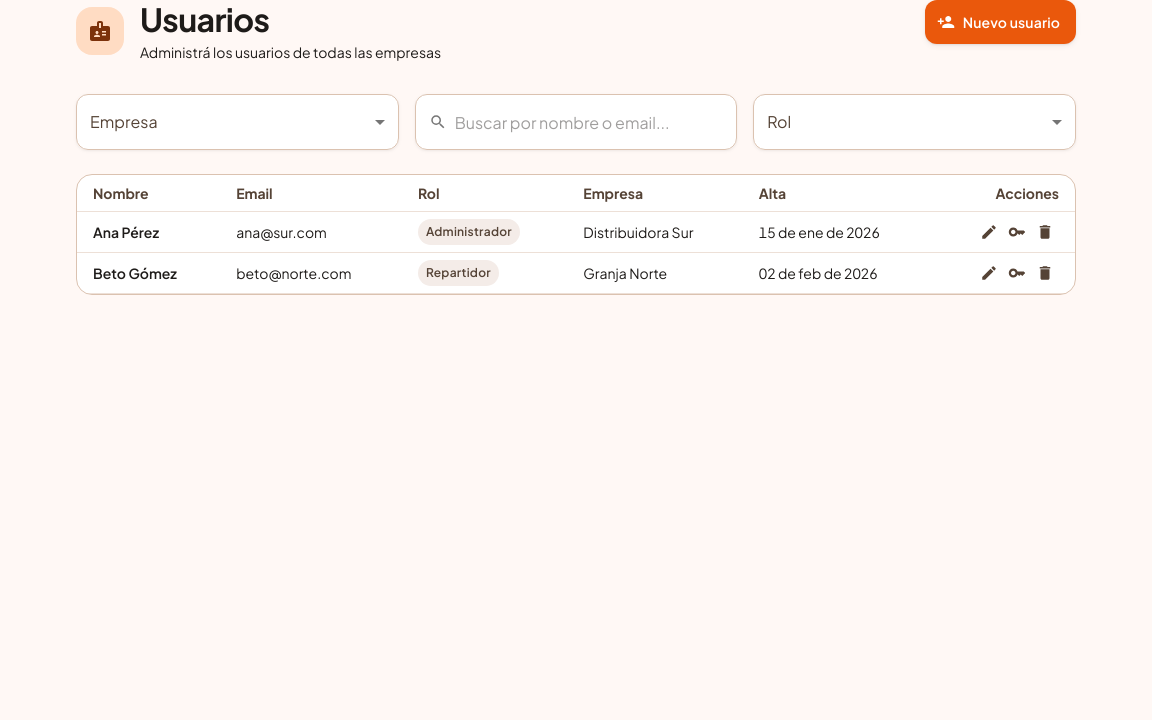
Test: PlatformUsersPage — platform-wide user manager › deletes a user after confirming in the dialog
The image size is (1152, 720).
Later steps or results of the test are not shown.
Check: the text "Ana Pérez" is shown, box x1=77 y1=212 x2=220 y2=253
Click the button named "Eliminar Ana Pérez" at [1045, 232], box x1=1031 y1=218 x2=1059 y2=246
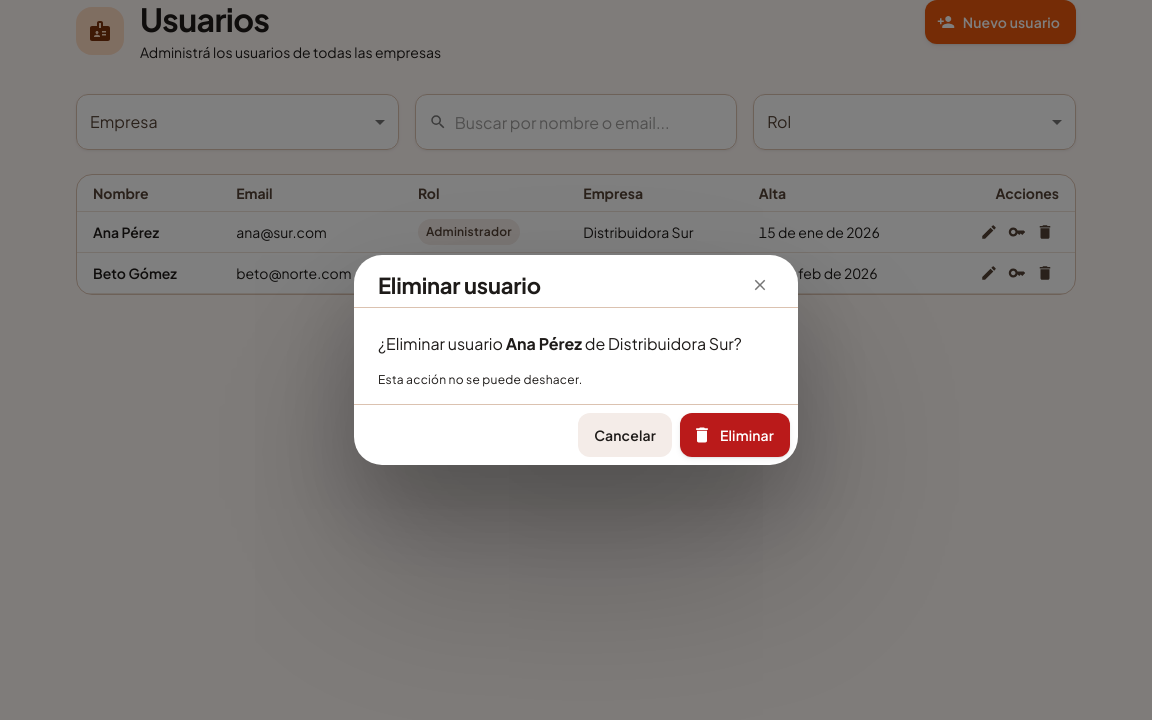
Check: the heading "Eliminar usuario" is shown, box x1=378 y1=271 x2=774 y2=299
